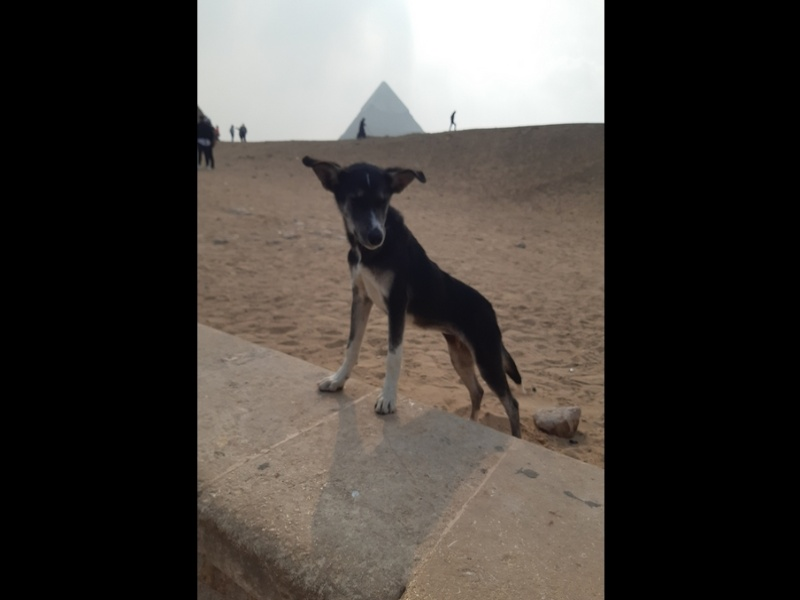dog: (294, 152, 529, 448)
